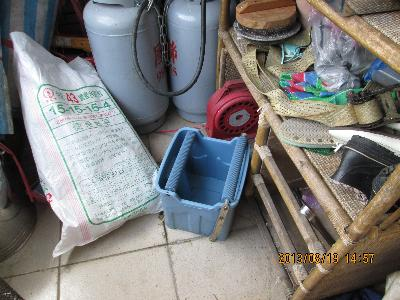bucket: (153, 124, 252, 243)
plastic_bag: (8, 29, 168, 258)
